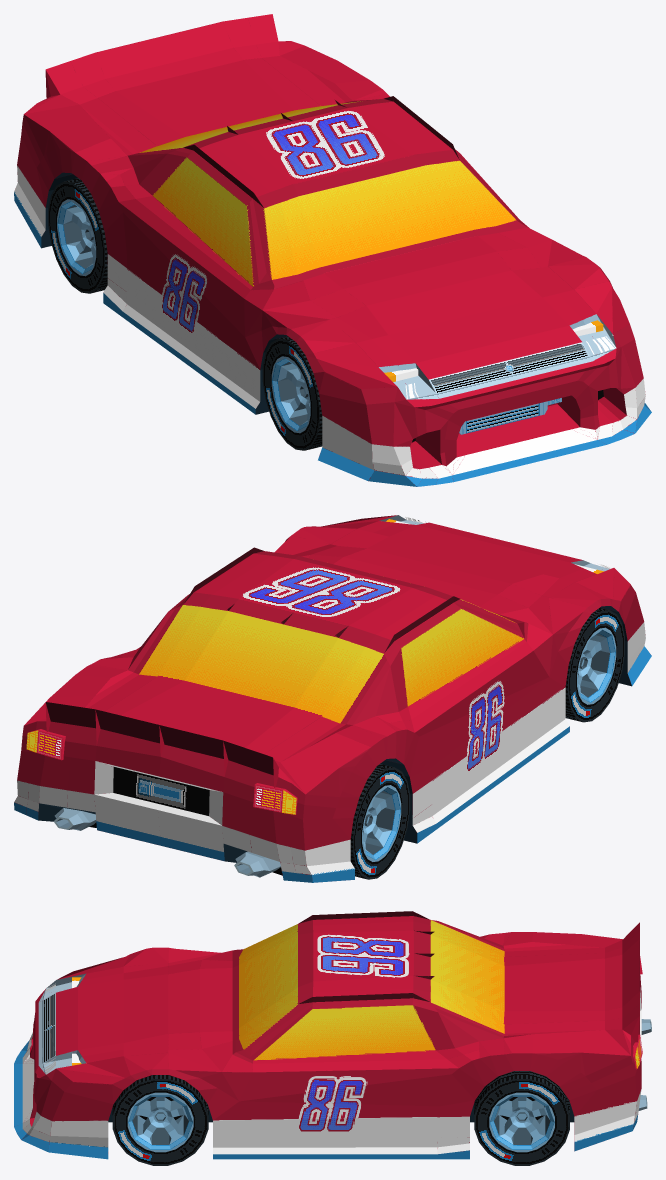
File: low_poly_supercarnascar.glb
3 renders of one model, top to bottom at view 1: azimuth 30°, elevation 25°; view 2: azimuth 150°, elevation 25°; view 3: azimuth 270°, elevation 25°, orthographic. The views are drawn at different scales.
Visible parts, largest first — view 1: Main body, Wheel 1 (front left)_3, Wheel 1 (front left)_2, Intercooler; view 2: Main body, Wheel 1 (front left)_3, Wheel 1 (front left)_2, Exhaust 1, cube_1, cube; view 3: Main body, Wheel 1 (front left)_1, Wheel 1 (front left).
Boxes of the visible parts, bbox=[...] form: Main body: bbox=[14, 14, 651, 486]; Wheel 1 (front left)_3: bbox=[48, 178, 107, 293]; Wheel 1 (front left)_2: bbox=[262, 336, 322, 450]; Intercooler: bbox=[459, 398, 561, 434]; Main body: bbox=[14, 515, 651, 882]; Wheel 1 (front left)_3: bbox=[350, 764, 410, 879]; Wheel 1 (front left)_2: bbox=[565, 608, 624, 722]; Exhaust 1: bbox=[53, 808, 280, 877]; cube_1: bbox=[253, 783, 297, 814]; cube: bbox=[26, 729, 65, 760]; Main body: bbox=[14, 911, 641, 1159]; Wheel 1 (front left)_1: bbox=[474, 1071, 569, 1165]; Wheel 1 (front left): bbox=[112, 1075, 208, 1165].
Size of the model in its own units: 1.09 by 0.5983 by 2.29.
9 materials, 9 textured.
